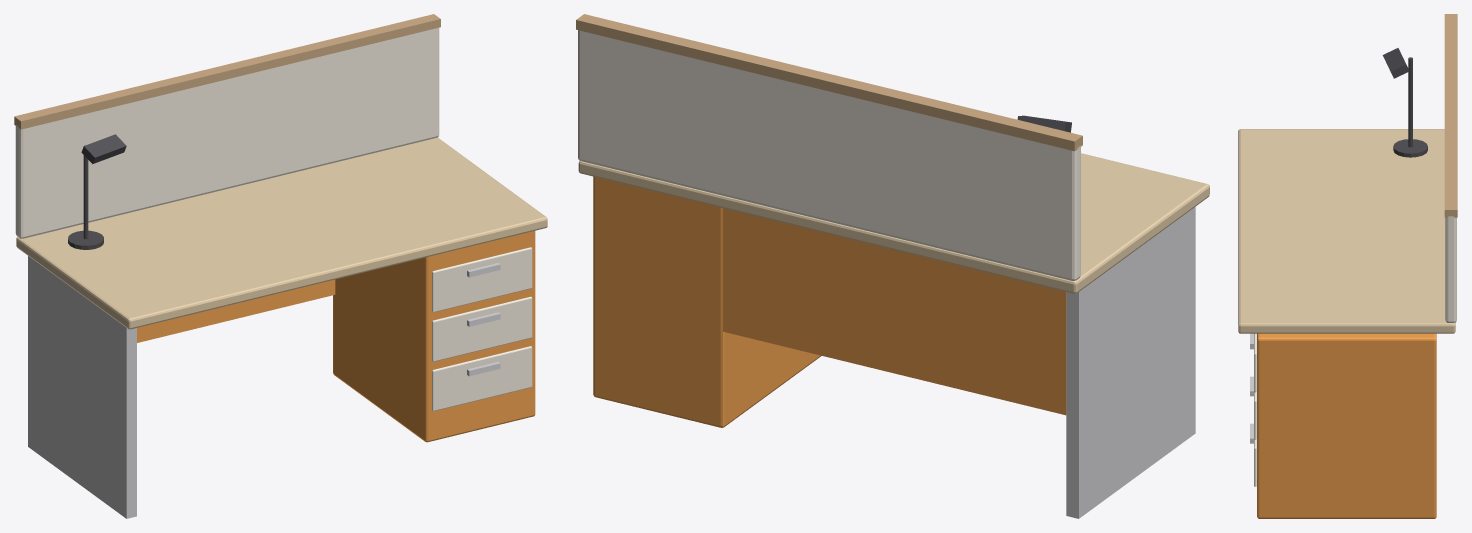
File: desk_office.glb
The picture shows the model from 3 angles, left to right: view 1: azimuth 30°, elevation 25°; view 2: azimuth 150°, elevation 25°; view 3: azimuth 270°, elevation 25°; orthographic projection. The views are drawn at different scales.
Parts seen in each view (by area): view 1: desk_office; view 2: desk_office; view 3: desk_office.
Boxes of the visible parts, bbox=[...] form: desk_office: bbox=[14, 14, 547, 518]; desk_office: bbox=[576, 14, 1209, 518]; desk_office: bbox=[1238, 14, 1457, 518].
Bounding box in the file's own units: 1.6 × 1.18 × 0.7575.
